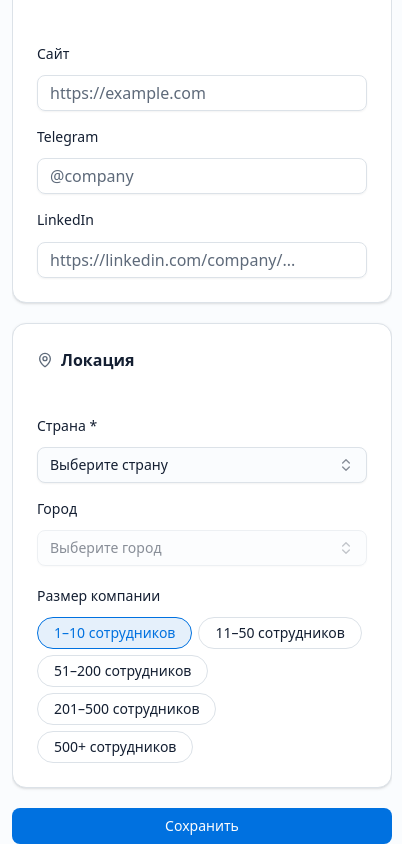
Scenario: CompanyForm › показывает ошибку если название пустое при submit
The width and height of the screenshot is (402, 844).
(page scrolled)
Click the button "Сохранить" at (202, 826), box [12,808,392,843]
(page scrolled)
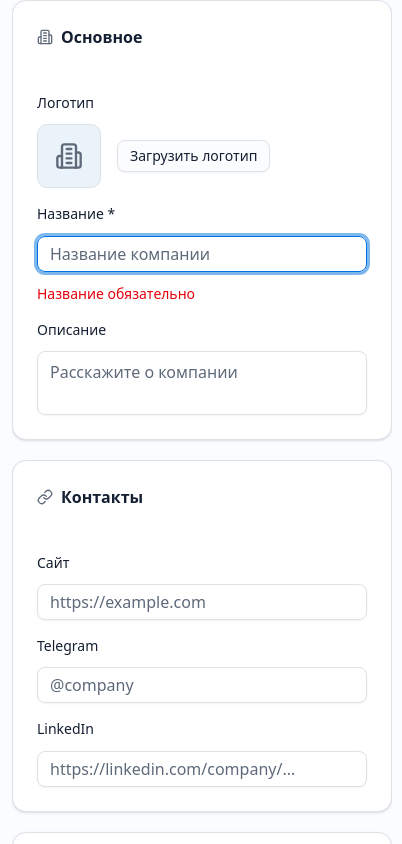
Check: the text "Название обязательно" is shown, box [37,284,195,302]
